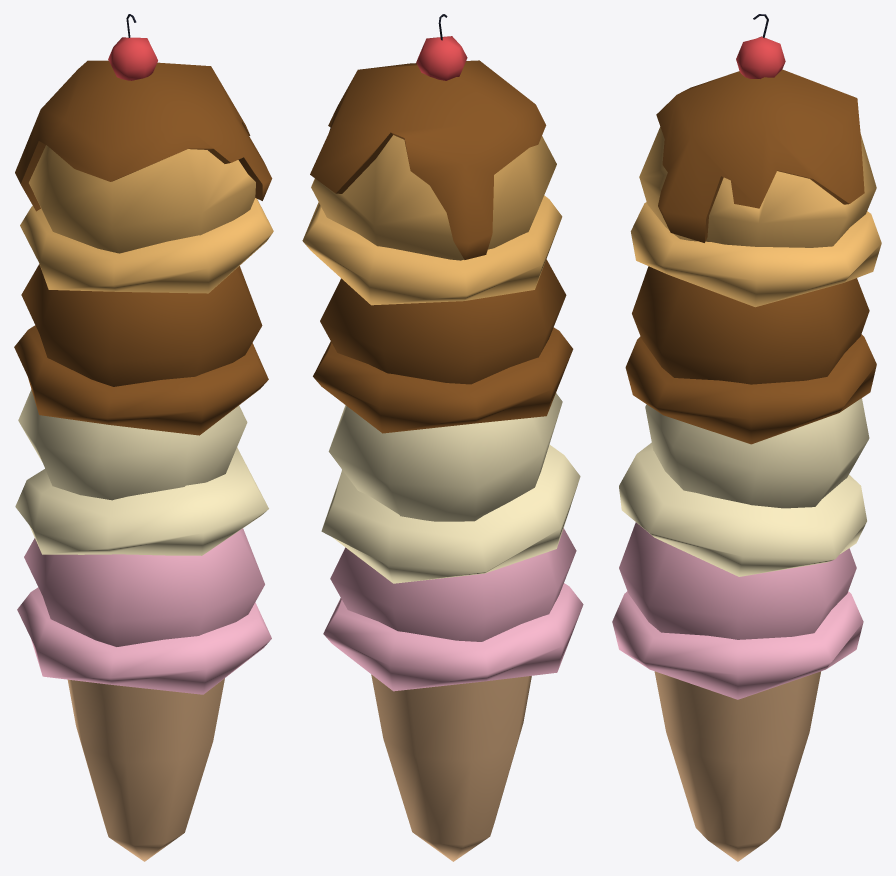
The model's file is Asset_IceCream_01.fbx.
3 renders of one model, left to right at view 1: azimuth 30°, elevation 25°; view 2: azimuth 150°, elevation 25°; view 3: azimuth 270°, elevation 25°, orthographic. The views are drawn at different scales.
Parts seen in each view (by area): view 1: Asset_IceCream_01; view 2: Asset_IceCream_01; view 3: Asset_IceCream_01.
Boxes of the visible parts, x1,y1,x2,y2 form: Asset_IceCream_01: (14, 14, 273, 861); Asset_IceCream_01: (302, 14, 583, 861); Asset_IceCream_01: (612, 14, 881, 861).
Size of the model in its own units: 18.32 by 64.79 by 18.69.
